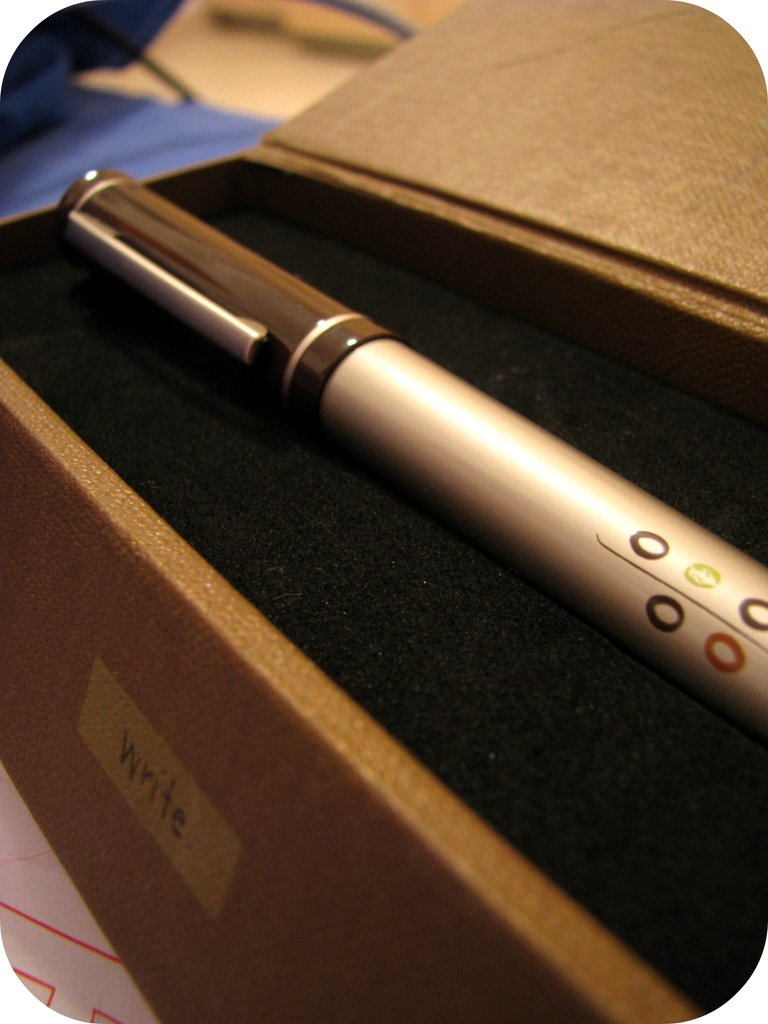Pen: (74, 156, 767, 705)
